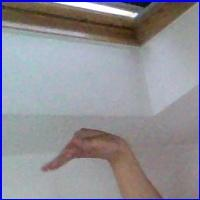del: (39, 124, 131, 181)
